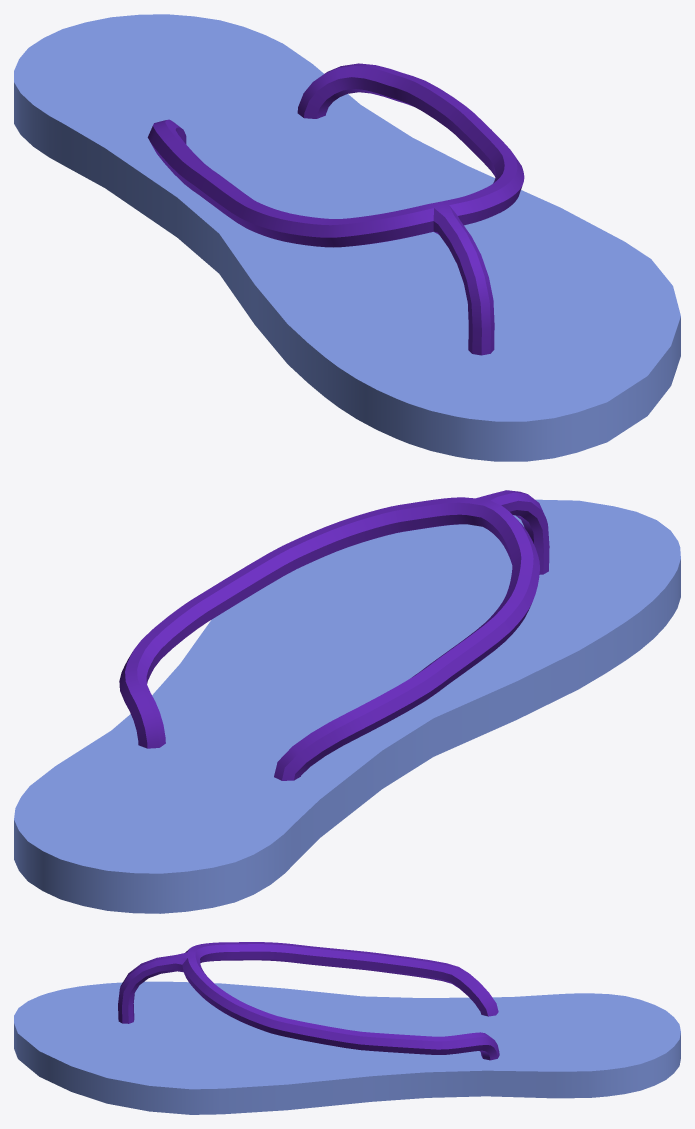
Rendered from FlipFlopLeft.fbx.
3 views of the same model, one above another, from view 1: azimuth 30°, elevation 25°; view 2: azimuth 150°, elevation 25°; view 3: azimuth 270°, elevation 25° (orthographic). The views are drawn at different scales.
Visible parts, largest first — view 1: FlipFlopLeft; view 2: FlipFlopLeft; view 3: FlipFlopLeft.
Boxes of the visible parts, x1,y1,x2,y2 form: FlipFlopLeft: (14, 14, 680, 461); FlipFlopLeft: (14, 490, 680, 913); FlipFlopLeft: (14, 942, 680, 1114).
Size of the model in its own units: 10.7 by 4.38 by 28.
